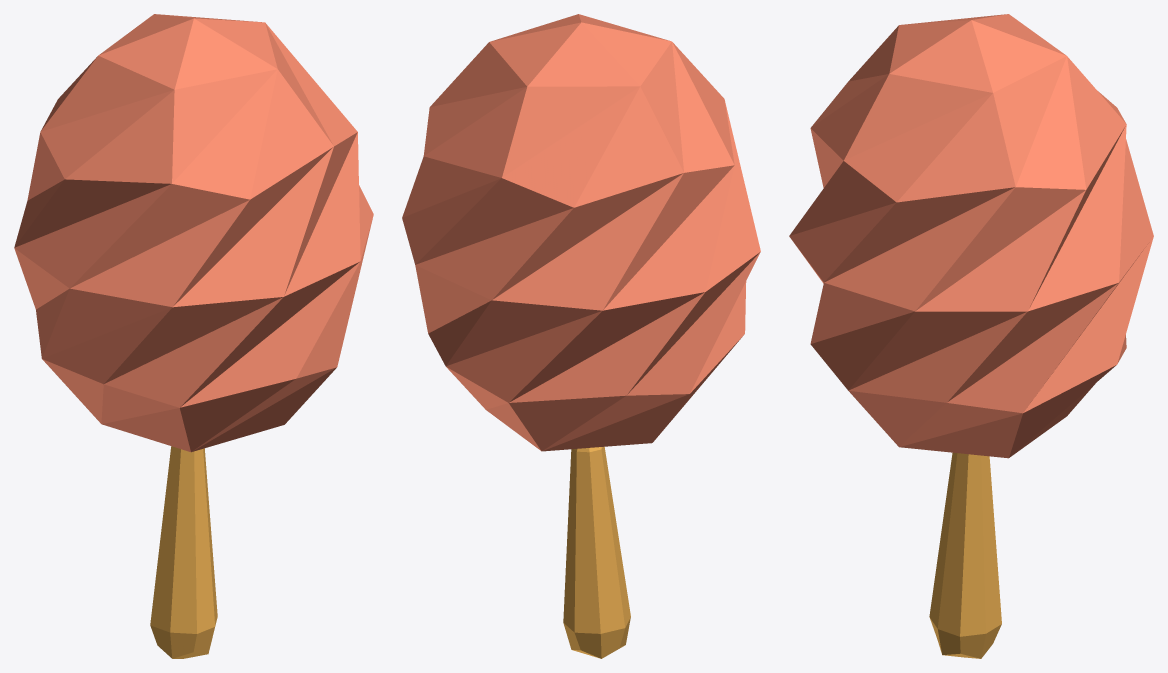
Rendered from tree75.gltf.
3 views of the same model, side by side, from view 1: azimuth 30°, elevation 25°; view 2: azimuth 150°, elevation 25°; view 3: azimuth 270°, elevation 25° (orthographic).
Visible parts, largest first — view 1: Icosphere, Cube; view 2: Icosphere, Cube; view 3: Icosphere, Cube.
Part boxes in pixels (x1,y1,x2,y2): Icosphere: [14, 14, 373, 452]; Cube: [150, 446, 217, 658]; Icosphere: [402, 14, 760, 451]; Cube: [563, 446, 630, 658]; Icosphere: [789, 14, 1153, 458]; Cube: [929, 452, 1001, 658].
Bounding box in the file's own units: 2.14 × 4.27 × 2.19.
